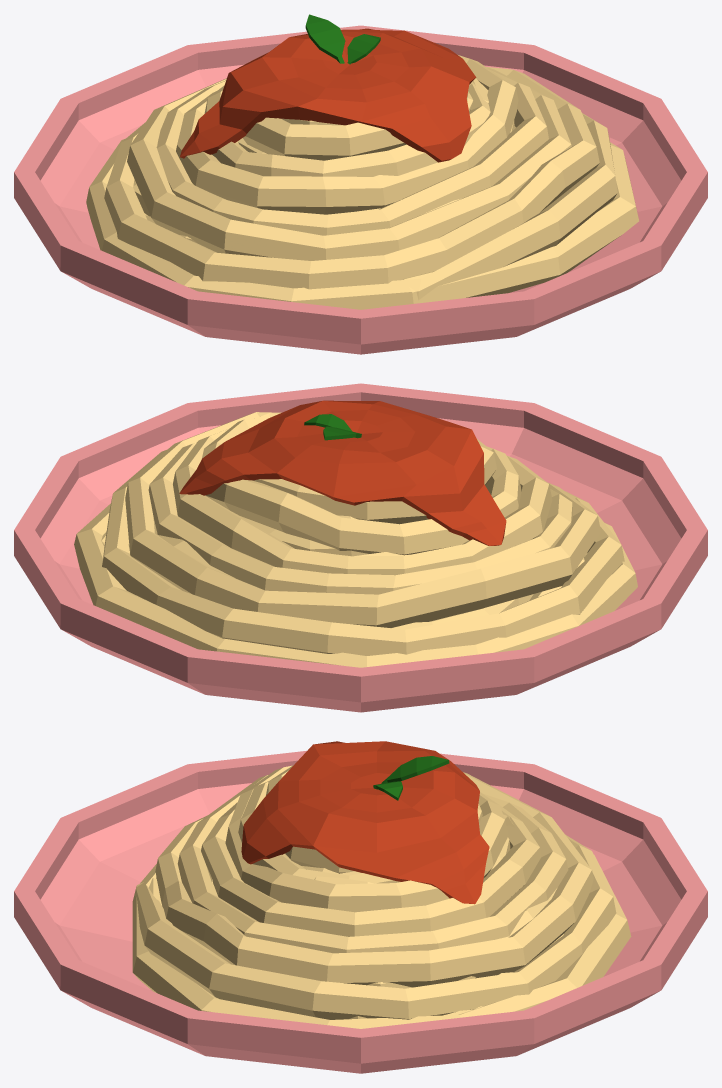
The model's file is spagheti_plate.fbx.
3 views of the same model, one above another, from view 1: azimuth 30°, elevation 25°; view 2: azimuth 150°, elevation 25°; view 3: azimuth 270°, elevation 25° (orthographic).
Visible parts, largest first — view 1: spagh, Circle; view 2: spagh, Circle; view 3: spagh, Circle.
Part boxes in pixels (bbox=[...]): spagh: bbox=[86, 14, 639, 309]; Circle: bbox=[14, 25, 707, 354]; spagh: bbox=[74, 400, 637, 667]; Circle: bbox=[14, 383, 707, 712]; spagh: bbox=[132, 741, 631, 1028]; Circle: bbox=[14, 750, 707, 1073].
Size of the model in its own units: 137 by 44.99 by 137.
